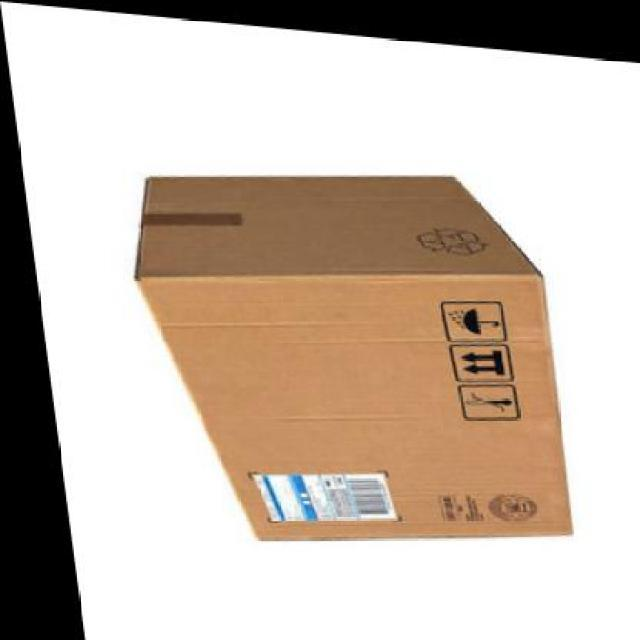box: (110, 143, 570, 560)
